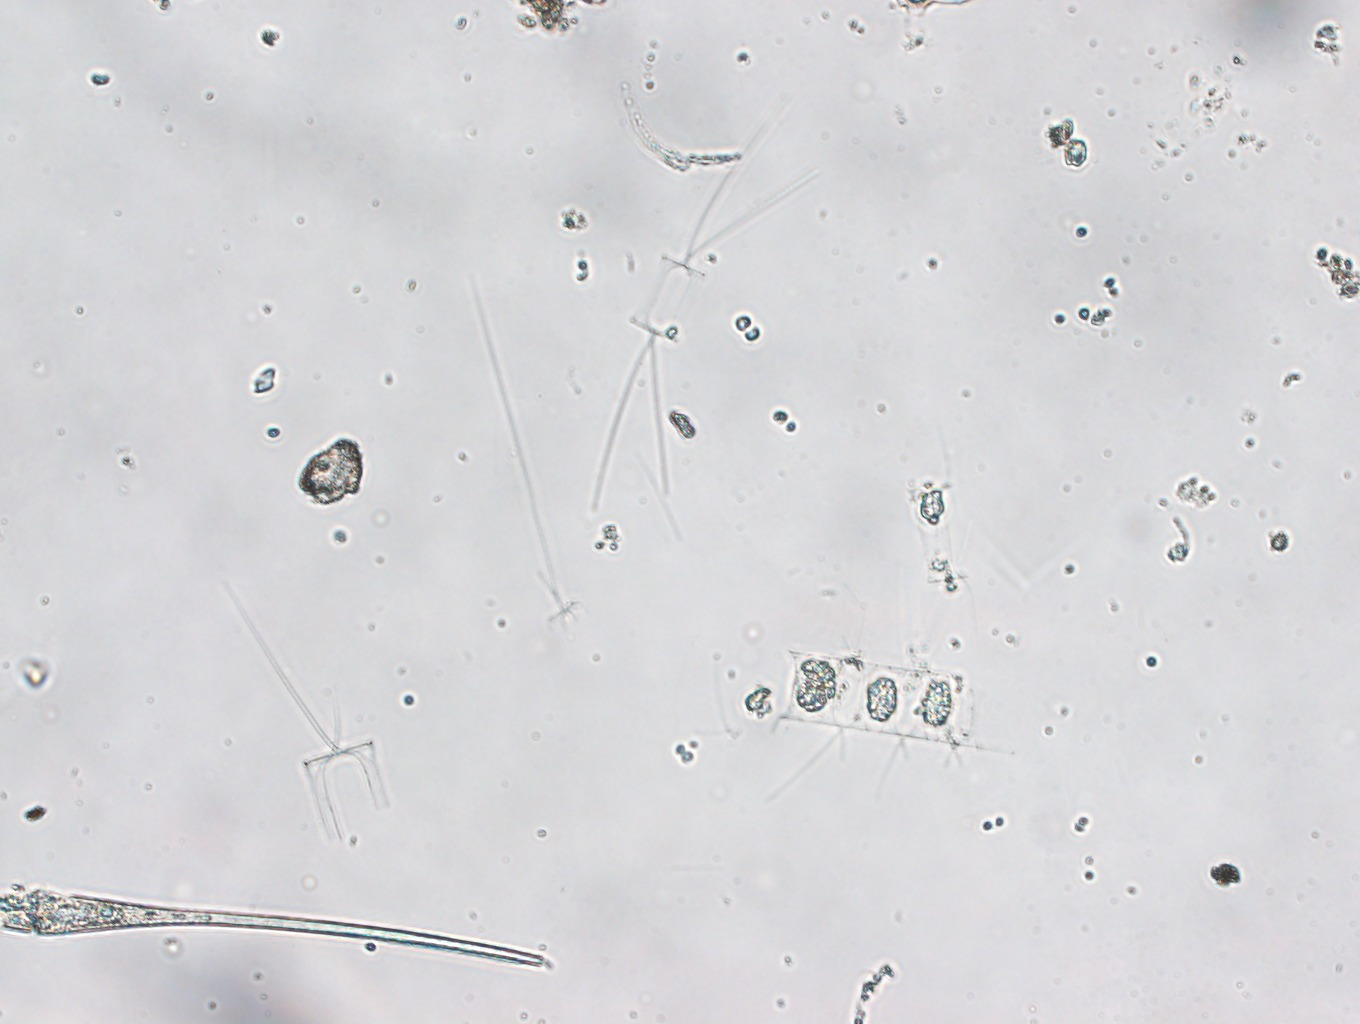ceratium fusus: (1, 882, 571, 978)
chaetoceros: (571, 108, 818, 517), (710, 615, 1046, 806)
